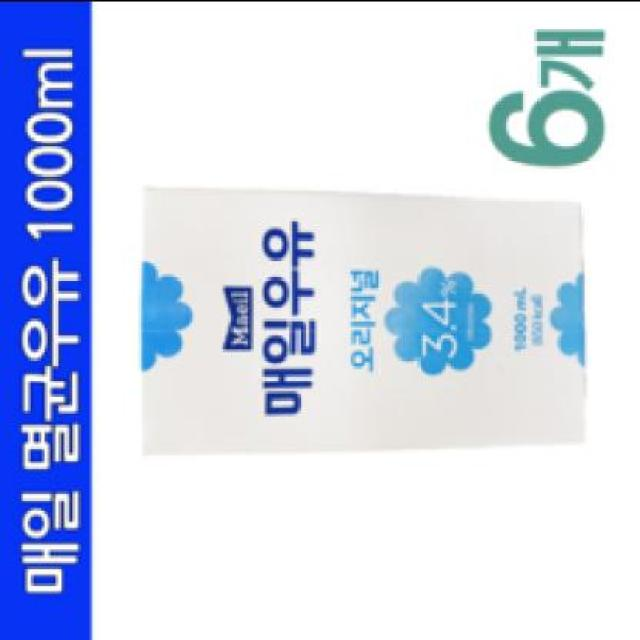tetra: (122, 167, 610, 487)
